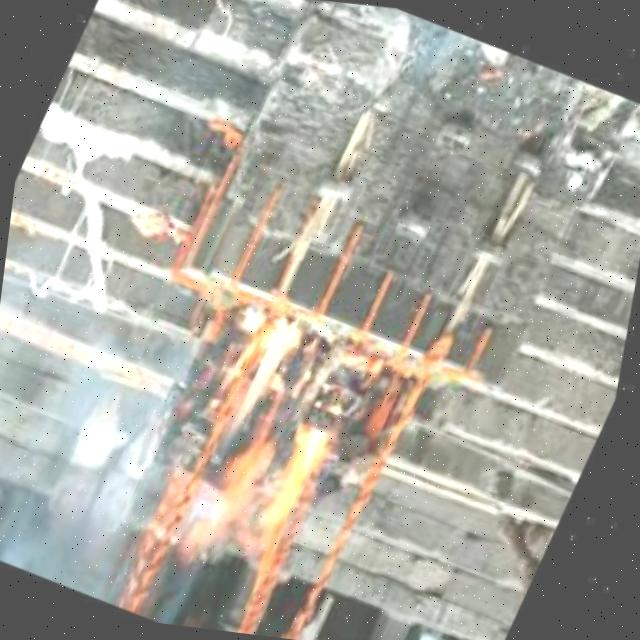fire: (142, 291, 394, 605)
